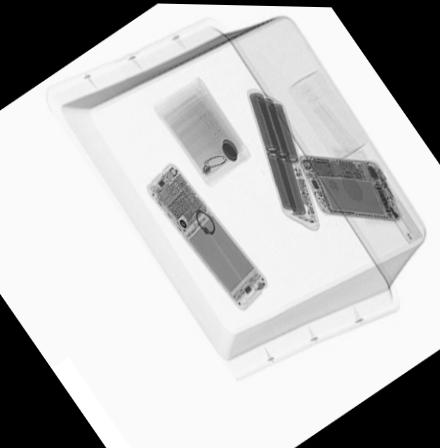Lighter: (370, 178, 416, 242)
